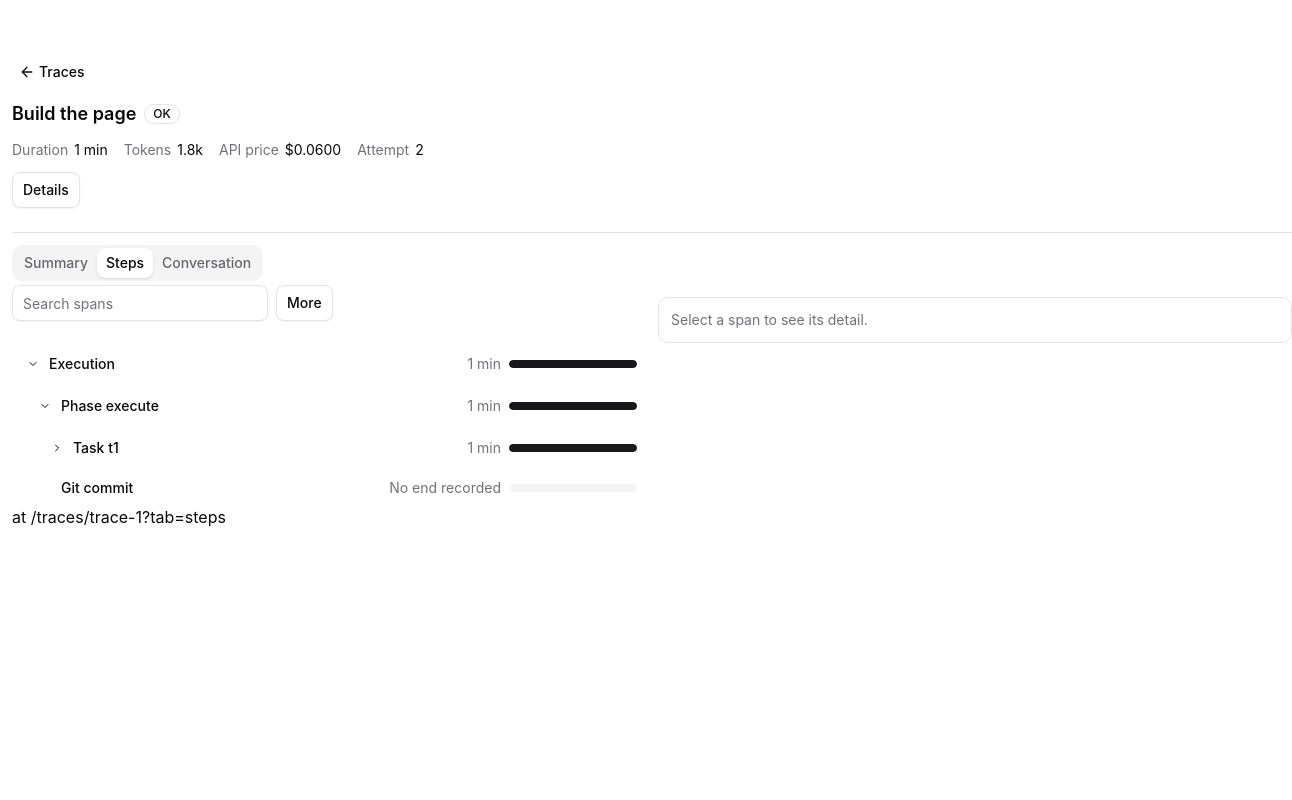
Scenario: TraceScreen timeline › folds the turns into one collapsed group row
The image size is (1292, 800).
expect the element named "Spans" is shown: met, box [12, 345, 646, 505]
Step 1. Click the button "More" → (304, 303), box [276, 285, 333, 321]
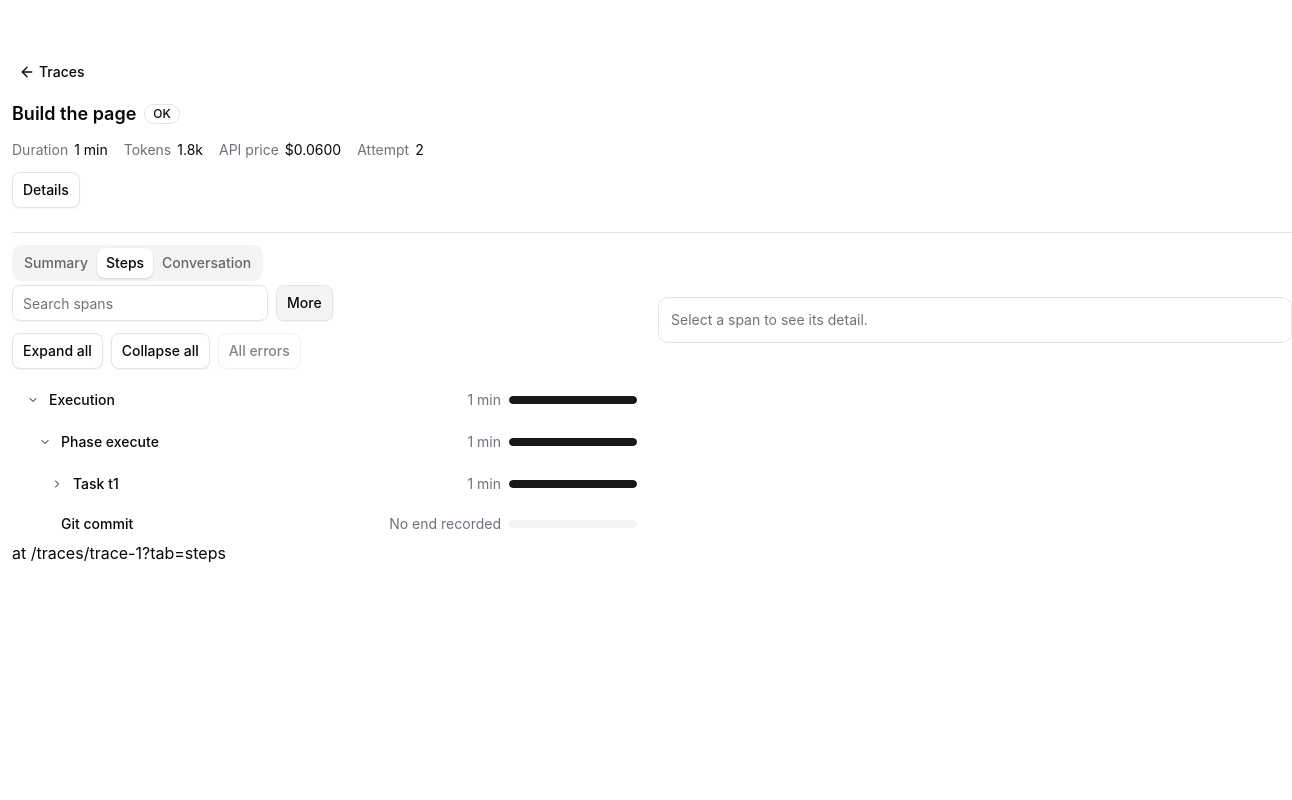
Step 2. Click the button "Expand all" → (57, 351), box [12, 333, 103, 369]
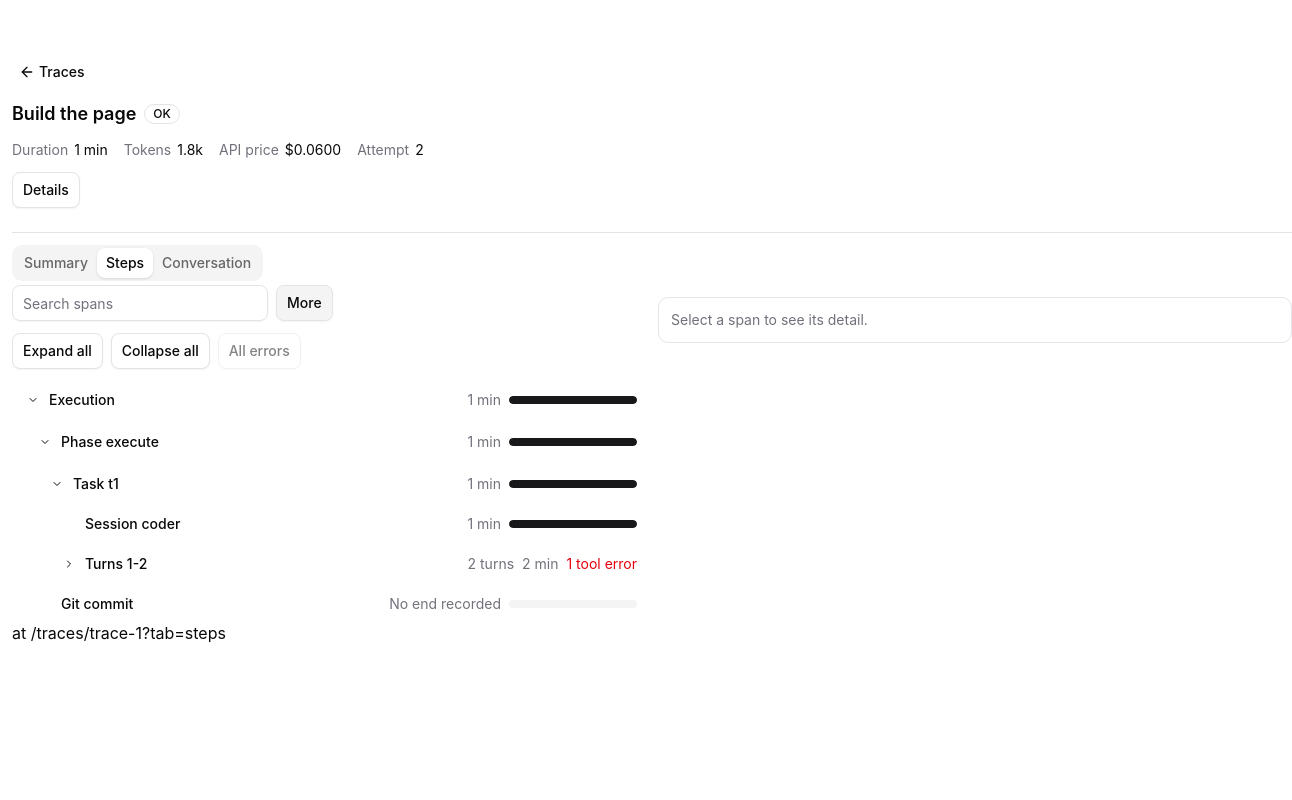
expect the text "2 turns" is shown: met, box [468, 554, 514, 574]
expect the text "1 tool error" is shown: met, box [566, 554, 637, 574]
expect the text "2 min" is shown: met, box [522, 554, 558, 574]
